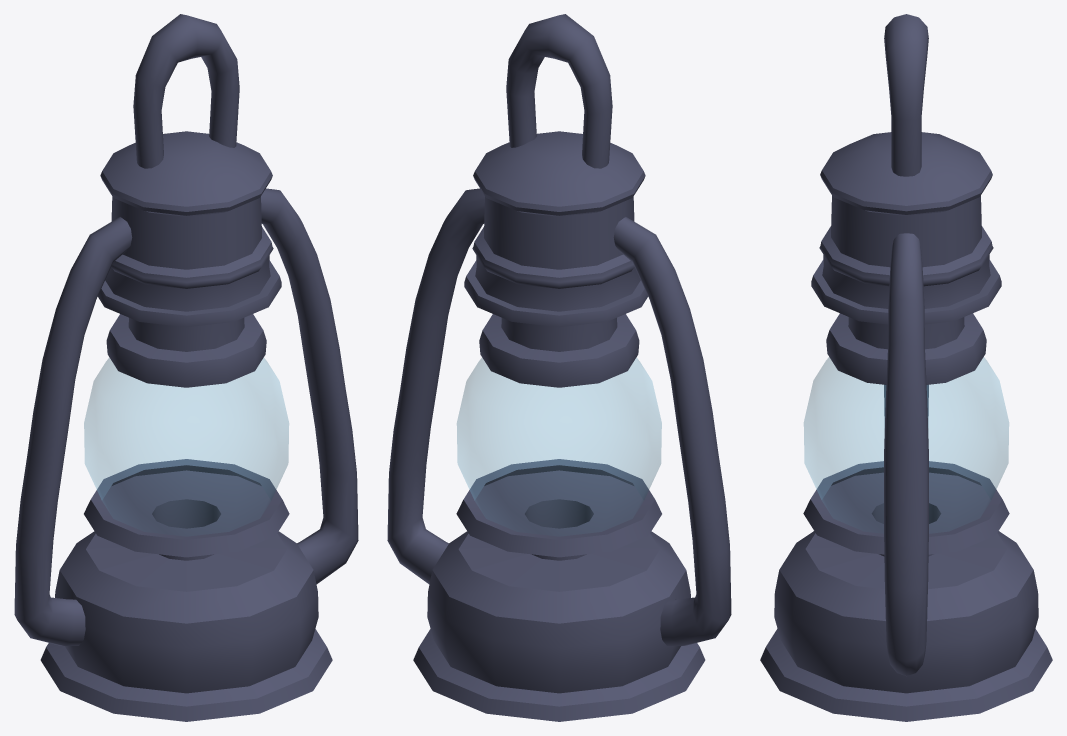
File: OilLampVar1.fbx
3 views of the same model, side by side, from view 1: azimuth 30°, elevation 25°; view 2: azimuth 150°, elevation 25°; view 3: azimuth 270°, elevation 25° (orthographic).
Parts seen in each view (by area): view 1: OilLampVar1; view 2: OilLampVar1; view 3: OilLampVar1.
Part boxes in pixels (x1,y1,x2,y2): OilLampVar1: [14, 14, 358, 721]; OilLampVar1: [387, 14, 731, 721]; OilLampVar1: [760, 14, 1052, 721].
Bounding box in the file's own units: 19.56 × 35.69 × 14.66.
2 materials, 1 textured.
